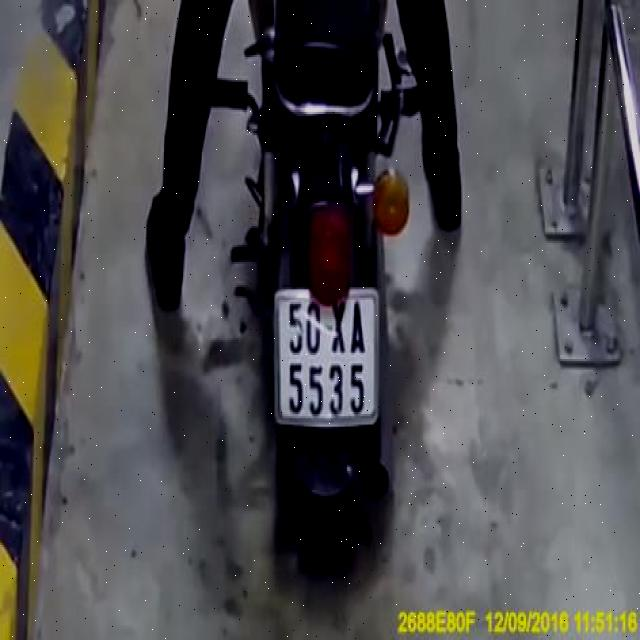0: (306, 300, 324, 360)
3: (327, 361, 345, 415)
5: (286, 362, 306, 420), (348, 357, 368, 415), (286, 301, 305, 356), (306, 364, 325, 419)
A: (347, 300, 370, 359)
B: (271, 279, 382, 441)
X: (329, 299, 348, 356)
